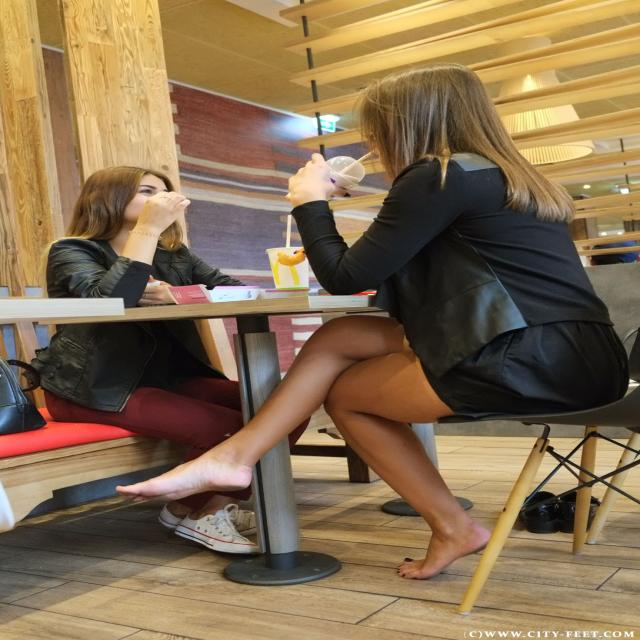Barefoots: (396, 526, 493, 579), (116, 466, 253, 501)
